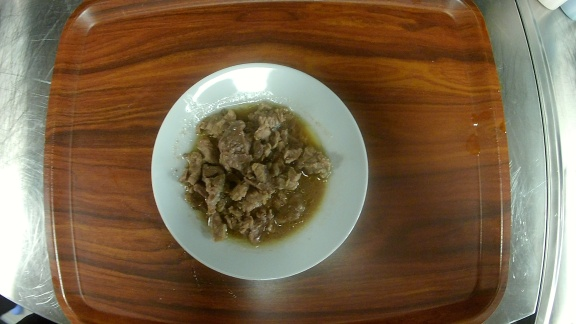etsote: (149, 60, 371, 282)
